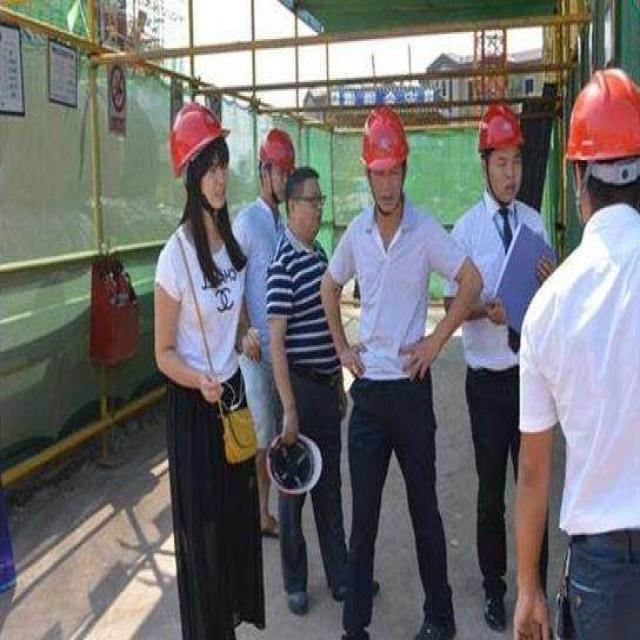Con_Casco: (477, 105, 525, 198)
Sin_Chaleco: (342, 208, 441, 390)
